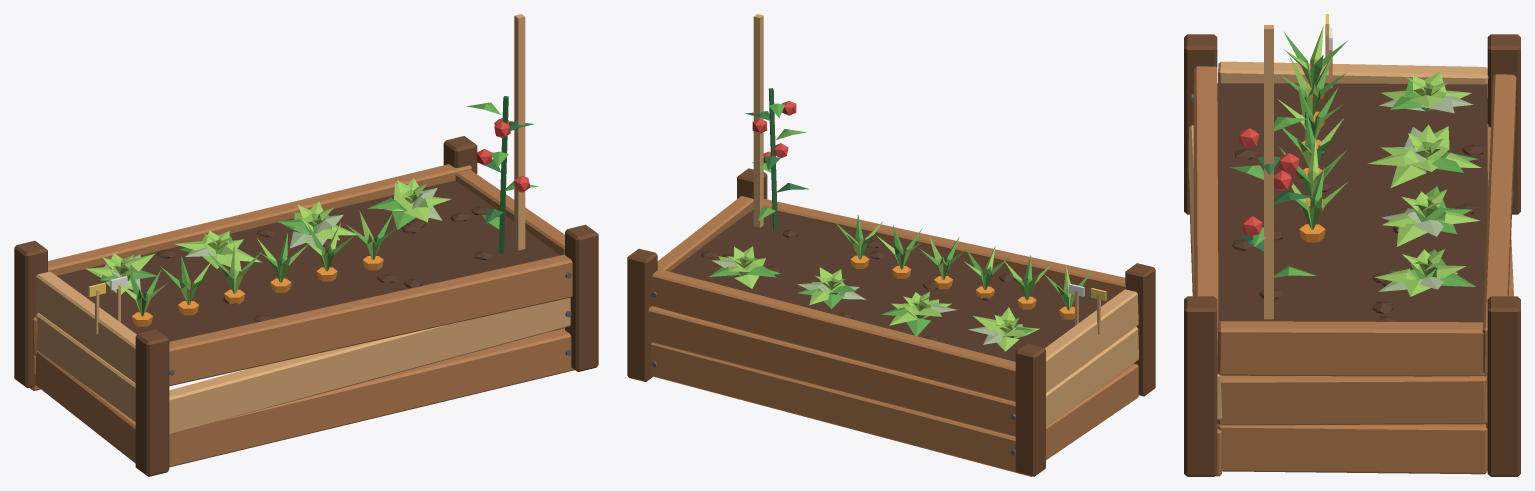
The model's file is raised_garden_bed.glb.
3 renders of one model, left to right at view 1: azimuth 30°, elevation 25°; view 2: azimuth 150°, elevation 25°; view 3: azimuth 270°, elevation 25°, orthographic. The views are drawn at different scales.
Parts seen in each view (by area): view 1: Raised Garden Bed; view 2: Raised Garden Bed; view 3: Raised Garden Bed.
Boxes of the visible parts, box(x1,y1,x2,y2) form: Raised Garden Bed: box(14, 14, 598, 476); Raised Garden Bed: box(627, 14, 1155, 476); Raised Garden Bed: box(1184, 14, 1520, 476).
Size of the model in its own units: 1.97 by 1.42 by 1.01.
Materials: 1 (1 with a texture image).
